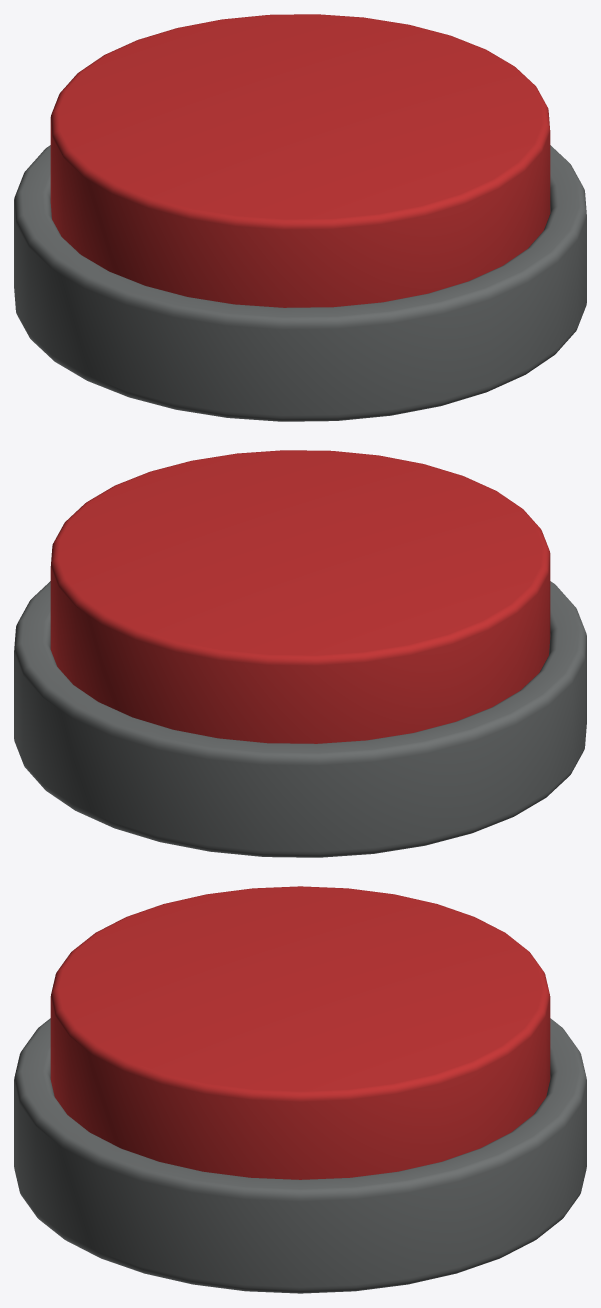
The model's file is Button.fbx.
The picture shows the model from 3 angles, top to bottom: view 1: azimuth 30°, elevation 25°; view 2: azimuth 150°, elevation 25°; view 3: azimuth 270°, elevation 25°; orthographic projection.
Parts seen in each view (by area): view 1: Цилиндр_1, Цилиндр; view 2: Цилиндр_1, Цилиндр; view 3: Цилиндр_1, Цилиндр.
Boxes of the visible parts, <box> form: Цилиндр_1: <box>50,14,550,307</box>; Цилиндр: <box>14,145,586,421</box>; Цилиндр_1: <box>50,450,550,743</box>; Цилиндр: <box>14,581,586,857</box>; Цилиндр_1: <box>50,886,550,1179</box>; Цилиндр: <box>14,1018,586,1293</box>.
Size of the model in its own units: 180 by 64.63 by 180.
